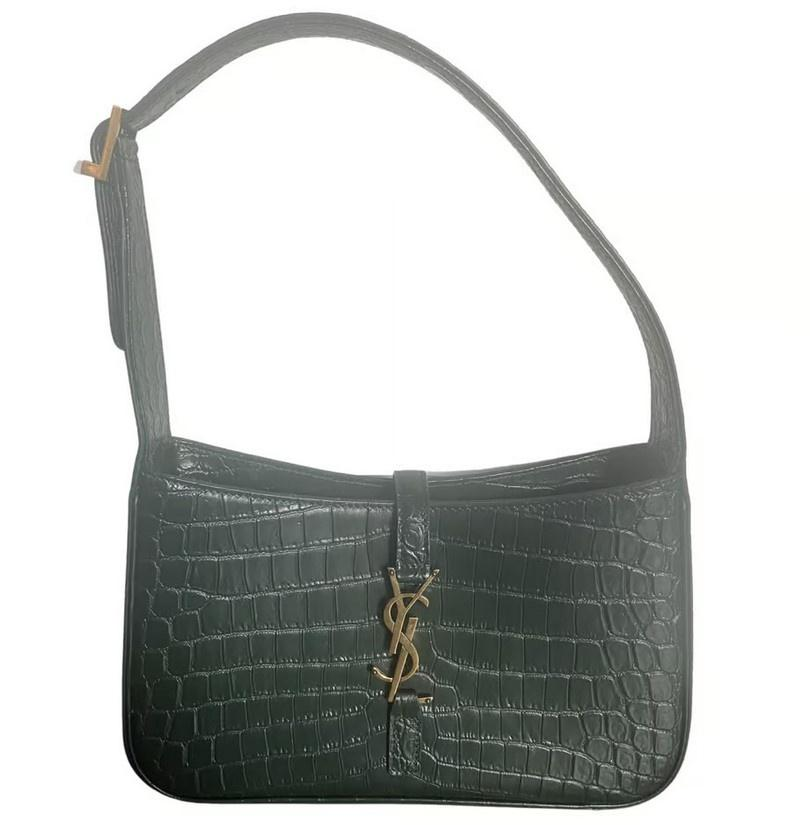YVES-SAINT-LAURENT: (372, 567, 440, 704)
